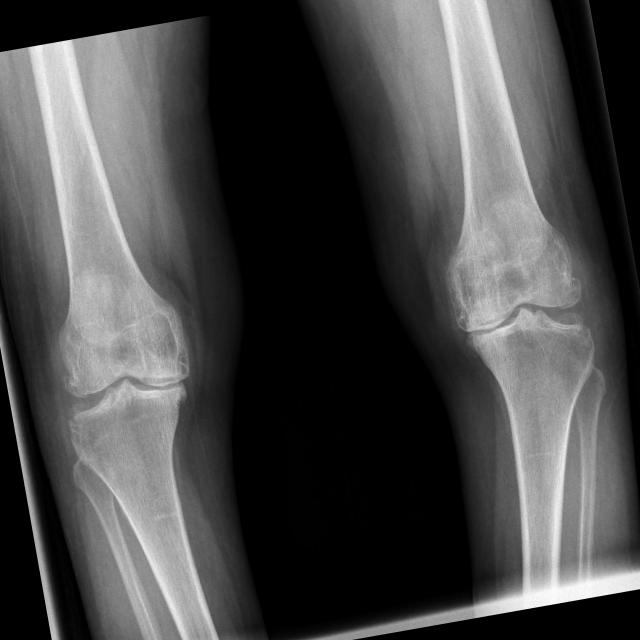Knee: (49, 316, 202, 451), (442, 247, 596, 381)
